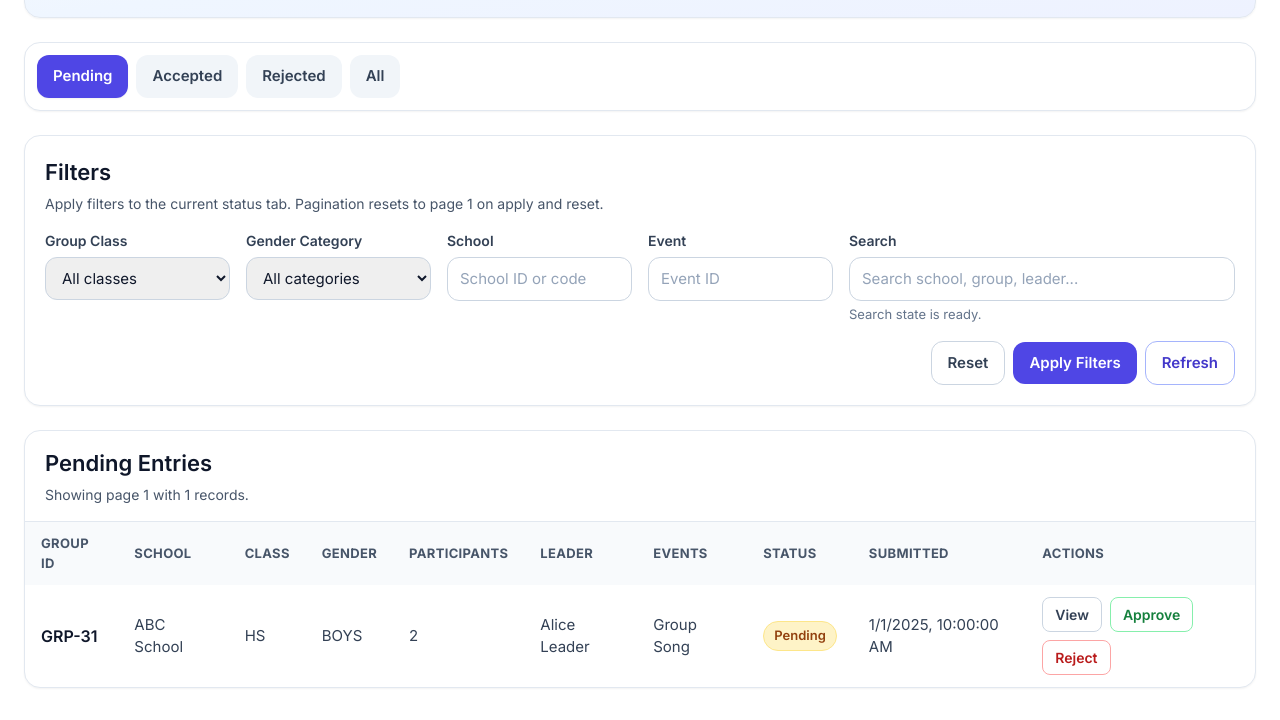
Scenario: SchoolGroupParticipantsAdmin member edit integration › shows role restriction message for PATCH 403
(page scrolled)
Click the button "View": coordinates (1072, 614) [1042,597,1102,632]
(page scrolled)
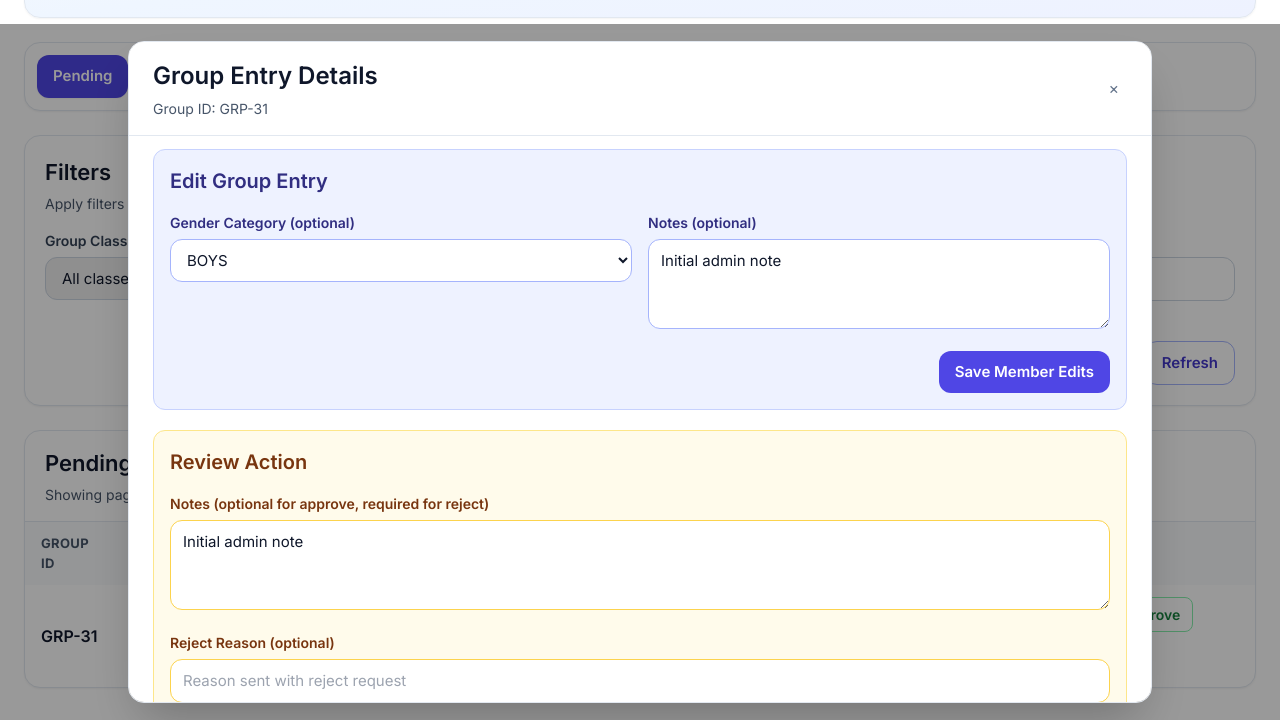
Click the button "Save Member Edits": coordinates (1024, 372) [939,351,1110,393]
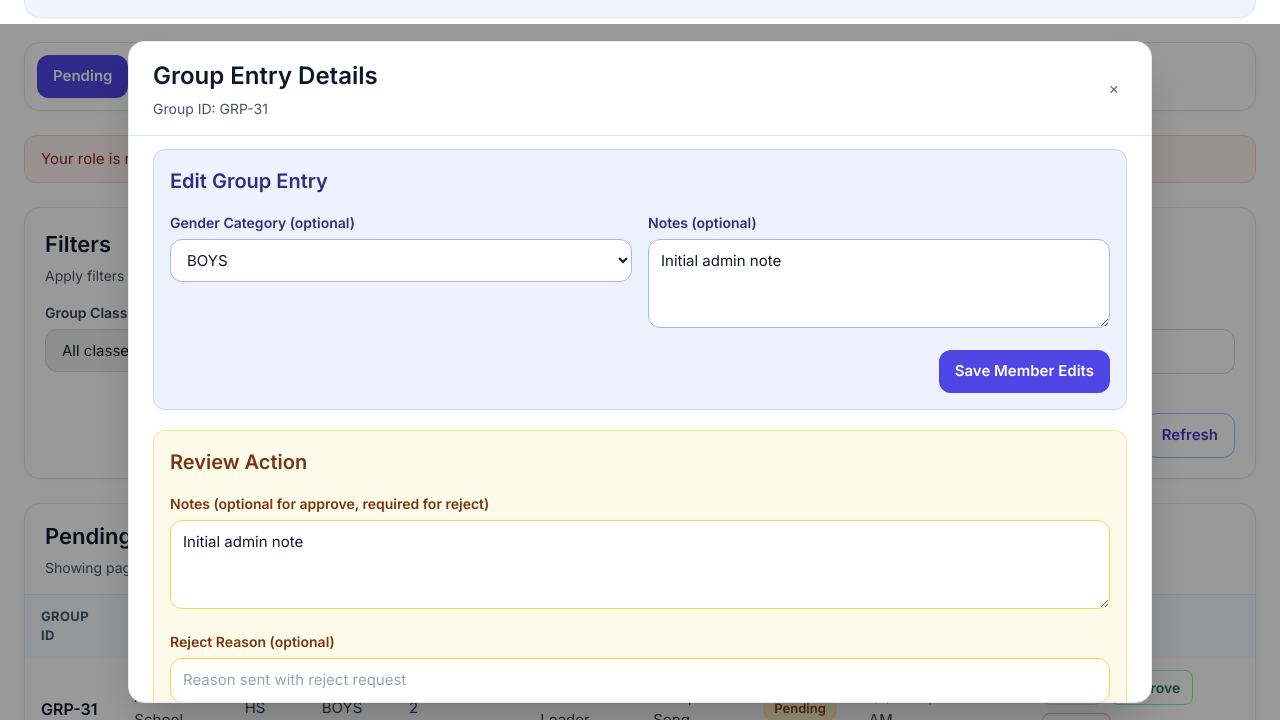
Expected: the text "Your role is not allowed to edit this group entry." is shown, [24,134,1256,183]
